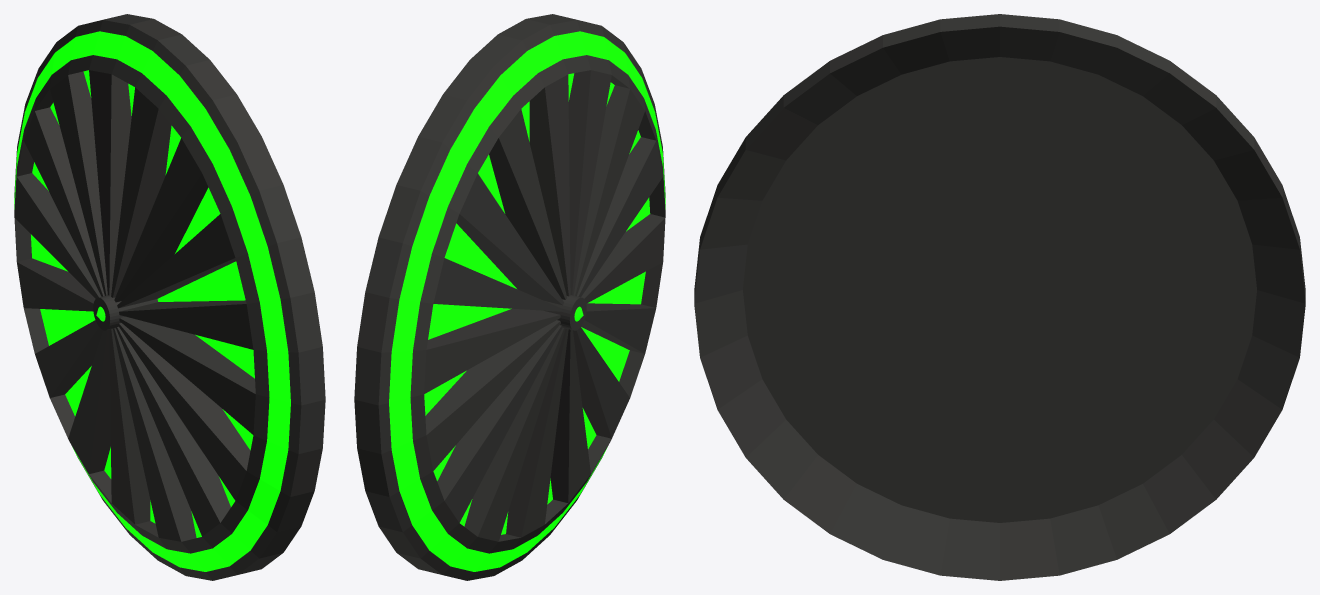
File: Fan 1.glb
3 renders of one model, left to right at view 1: azimuth 30°, elevation 25°; view 2: azimuth 150°, elevation 25°; view 3: azimuth 270°, elevation 25°, orthographic. The views are drawn at different scales.
Parts seen in each view (by area): view 1: Circle; view 2: Circle; view 3: Circle.
Boxes of the visible parts, left/top/right/bottom form: Circle: left=14, top=14, right=325, bottom=580; Circle: left=354, top=14, right=665, bottom=580; Circle: left=694, top=14, right=1305, bottom=580.
Size of the model in its own units: 2.72 by 15.75 by 15.75.
2 materials, 1 textured.
